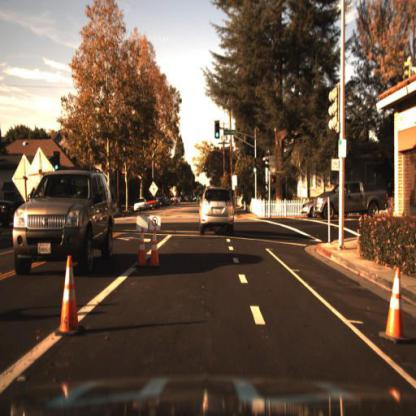car: (14, 169, 117, 275), (313, 180, 389, 224), (199, 185, 237, 238), (298, 198, 314, 219), (133, 197, 149, 216), (132, 197, 148, 215), (145, 193, 159, 213)
trafficLight-Green: (214, 119, 221, 143), (54, 161, 62, 174), (253, 165, 258, 181), (254, 159, 259, 175)
